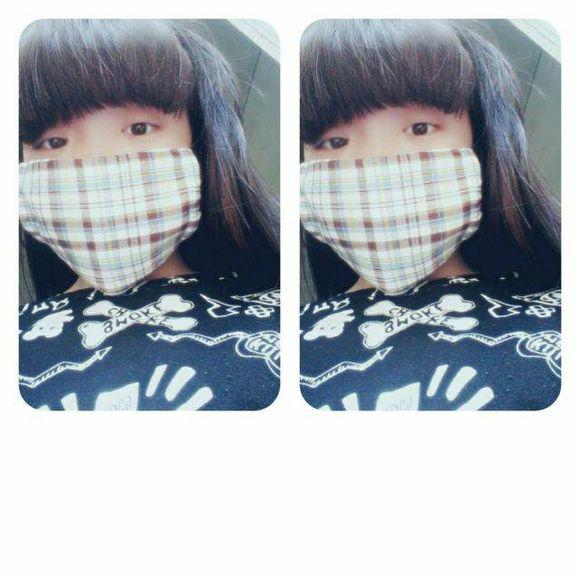OK: (23, 99, 209, 285), (306, 110, 471, 281)
